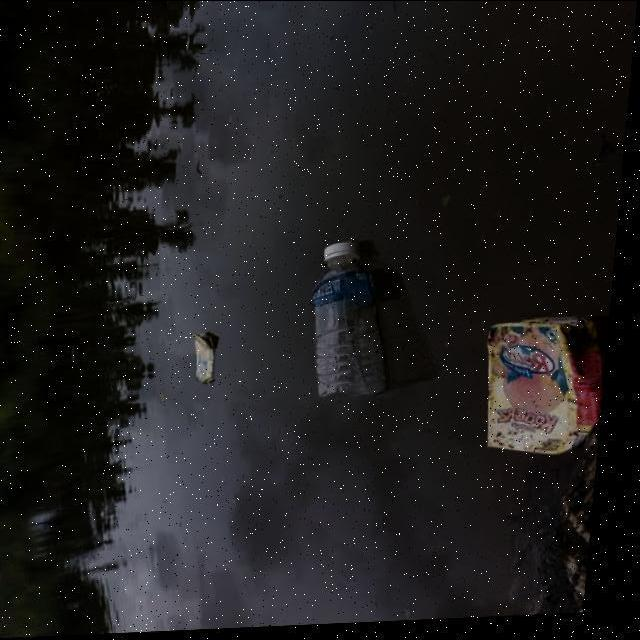Bottle: (306, 224, 386, 422)
Box: (476, 304, 608, 468), (188, 333, 226, 395)
